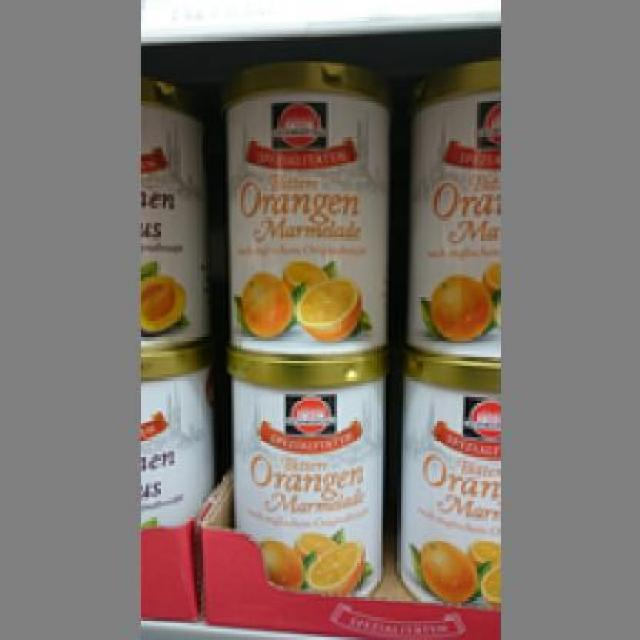Jam: (220, 60, 386, 357), (216, 343, 390, 591), (402, 54, 495, 354), (392, 343, 494, 603)
